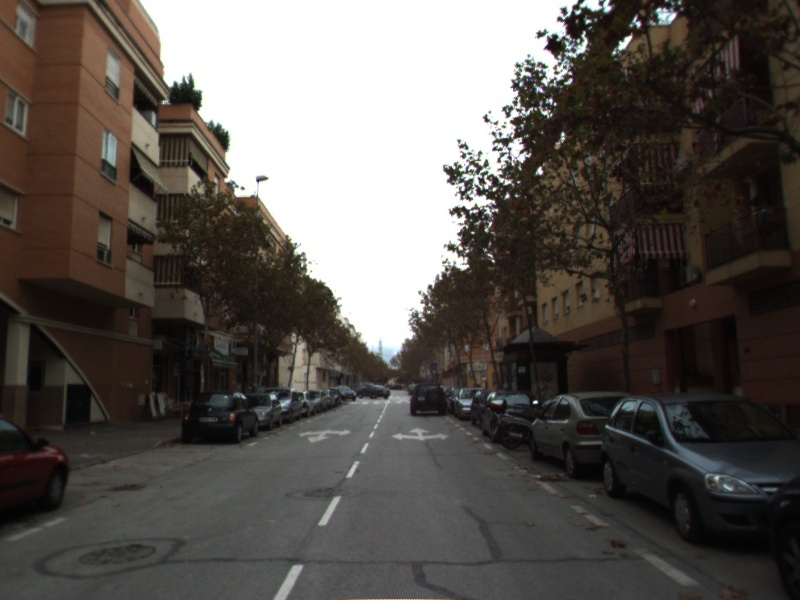STRAIGHT_LEFT_RIGHT: (391, 425, 452, 443)
